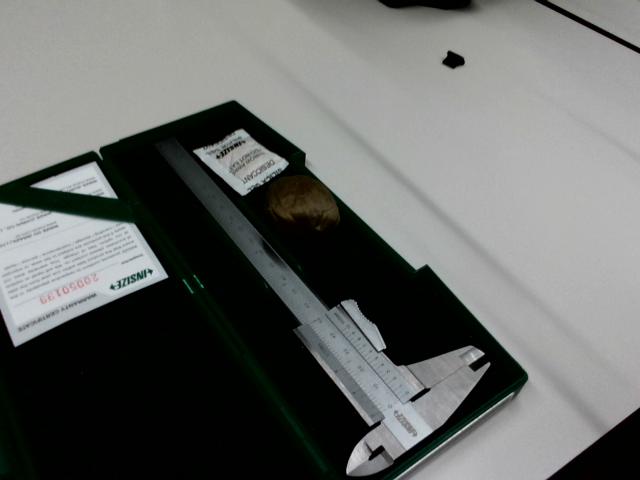walnut: (262, 171, 341, 237)
